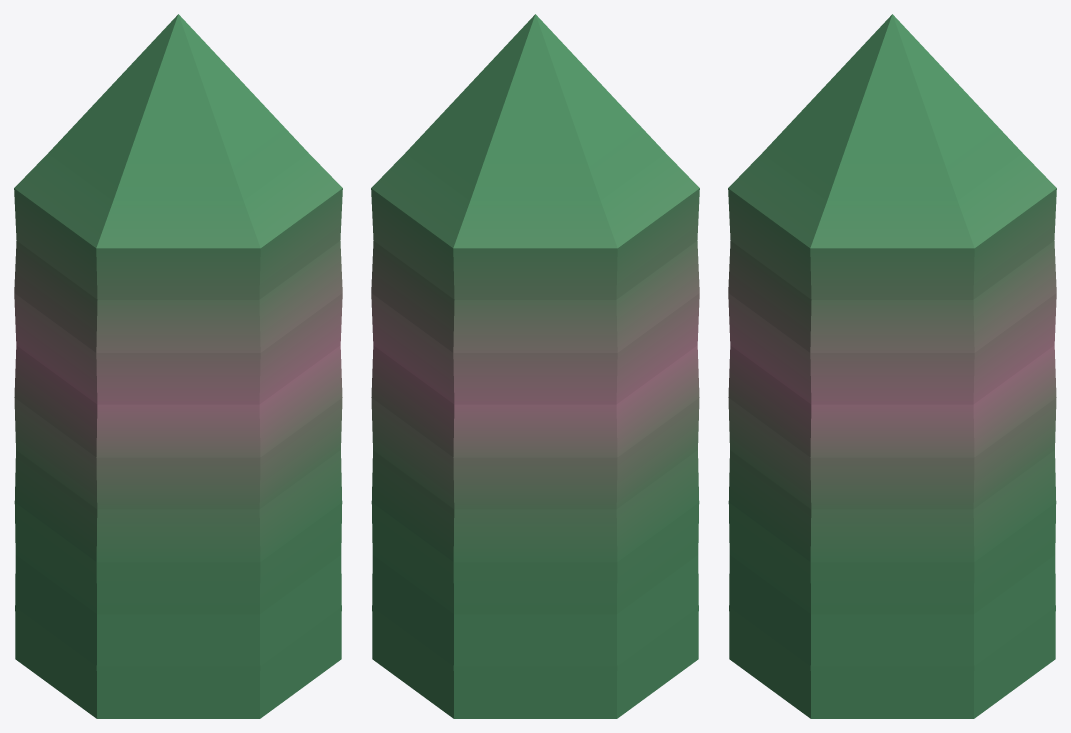
File: tourmaline.glb
3 views of the same model, side by side, from view 1: azimuth 30°, elevation 25°; view 2: azimuth 150°, elevation 25°; view 3: azimuth 270°, elevation 25° (orthographic).
Parts seen in each view (by area): view 1: tourmaline; view 2: tourmaline; view 3: tourmaline.
Part boxes in pixels (left/top/right/bottom): tourmaline: left=14, top=14, right=342, bottom=718; tourmaline: left=371, top=14, right=699, bottom=718; tourmaline: left=728, top=14, right=1056, bottom=718.
Size of the model in its own units: 0.9999 by 2.5 by 1.15.
